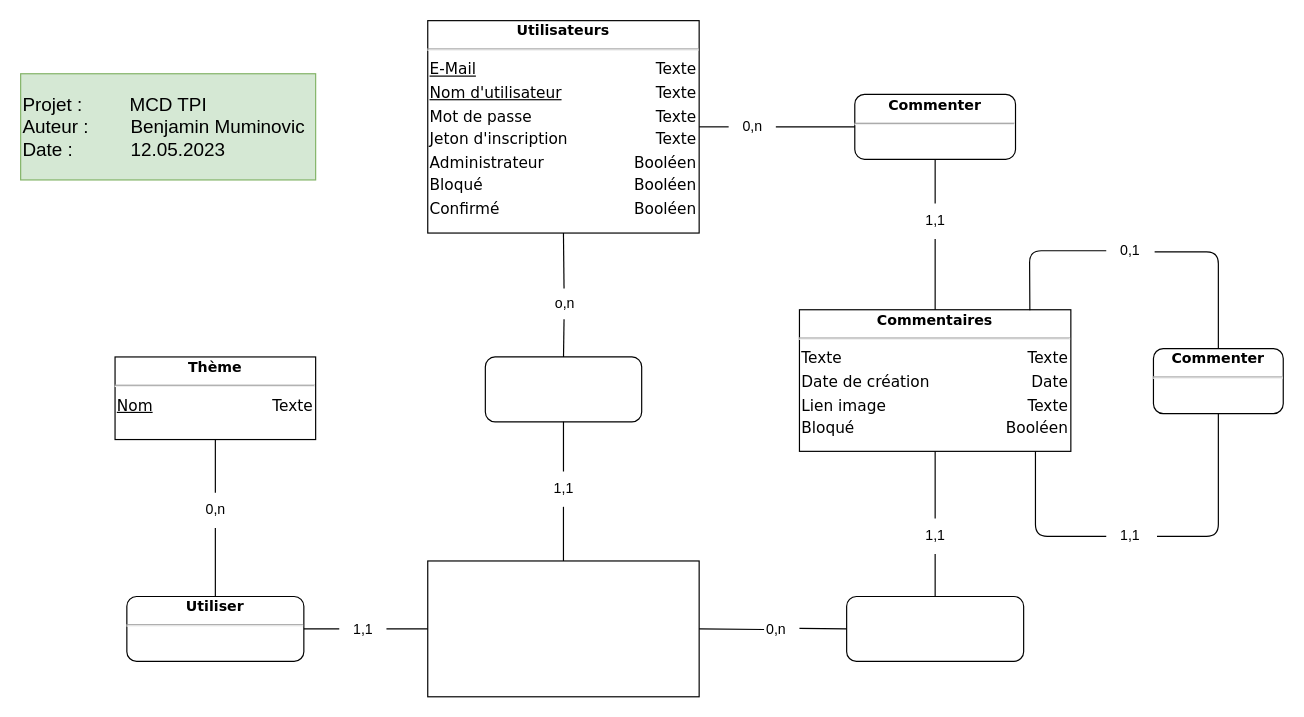
The diagram is 1304 pixels wide and 717 high, and some of its shapes have lost their labels. Here are the shapes that lost their labels. From the top down, the box of each, then its label:
(484, 356, 642, 422): Poster
(427, 560, 699, 697): Postes Titre Texte Date de création Date Lien image Texte Fermé Booléen
(845, 595, 1024, 661): Contenir
